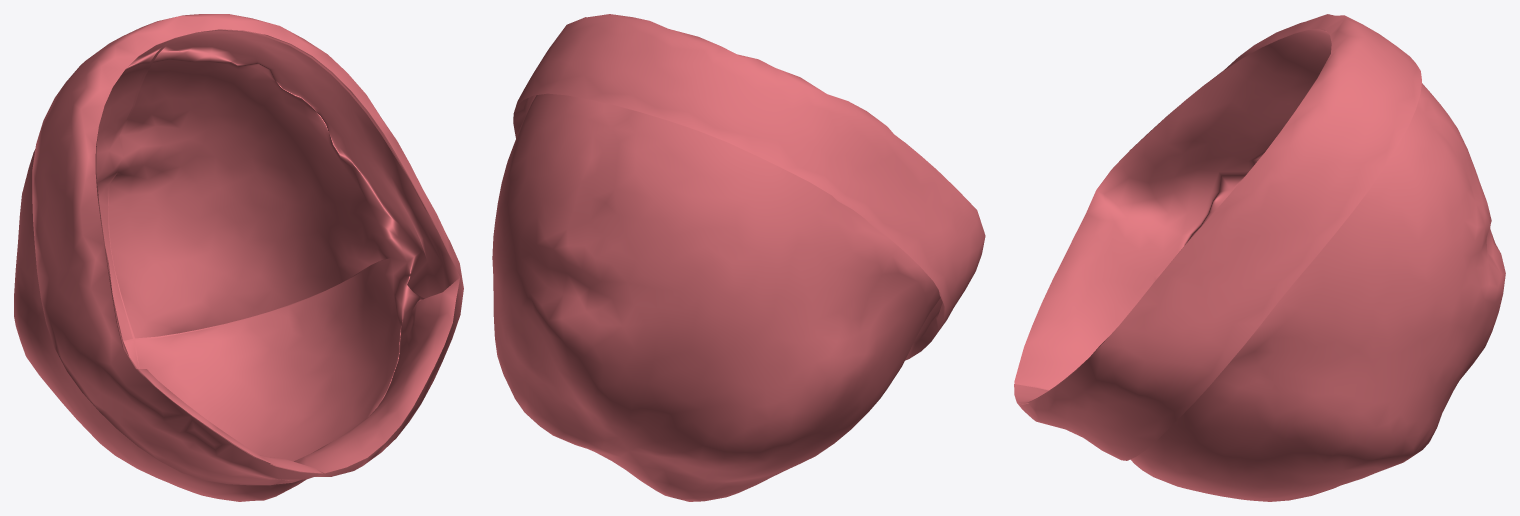
The model's file is female_avg_hWSNV2O.glb.
The picture shows the model from 3 angles, left to right: view 1: azimuth 30°, elevation 25°; view 2: azimuth 150°, elevation 25°; view 3: azimuth 270°, elevation 25°; orthographic projection. The views are drawn at different scales.
Visible parts, largest first — view 1: female_avg; view 2: female_avg; view 3: female_avg.
Part boxes in pixels (x1,y1,x2,y2): female_avg: [14, 14, 463, 501]; female_avg: [492, 14, 985, 501]; female_avg: [1014, 14, 1505, 501].
Bounding box in the file's own units: 0.178 × 0.2009 × 0.1935.
